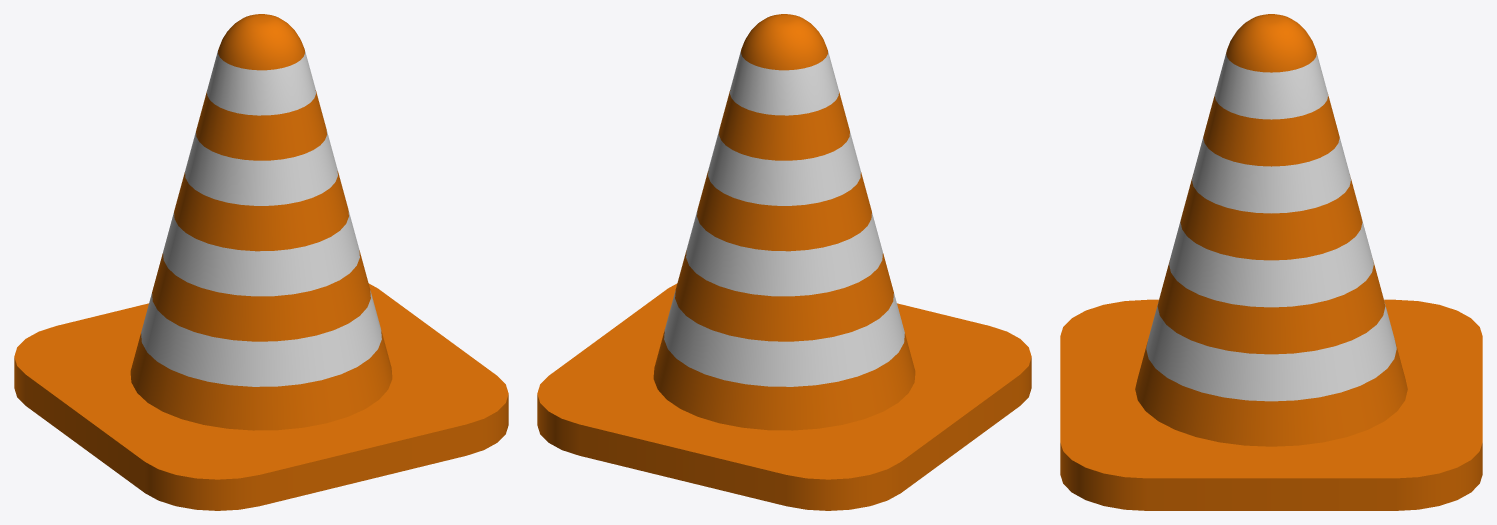
The model's file is TrafficCone01.fbx.
3 views of the same model, side by side, from view 1: azimuth 30°, elevation 25°; view 2: azimuth 150°, elevation 25°; view 3: azimuth 270°, elevation 25° (orthographic). The views are drawn at different scales.
Parts seen in each view (by area): view 1: Top, TrafficCone; view 2: Top, TrafficCone; view 3: Top, TrafficCone.
Part boxes in pixels (x1,y1,x2,y2): Top: [130, 14, 392, 430]; TrafficCone: [14, 283, 508, 510]; Top: [653, 14, 915, 430]; TrafficCone: [537, 283, 1031, 510]; Top: [1135, 14, 1407, 446]; TrafficCone: [1060, 299, 1482, 510].
Size of the model in its own units: 42.72 by 44.86 by 42.72.
